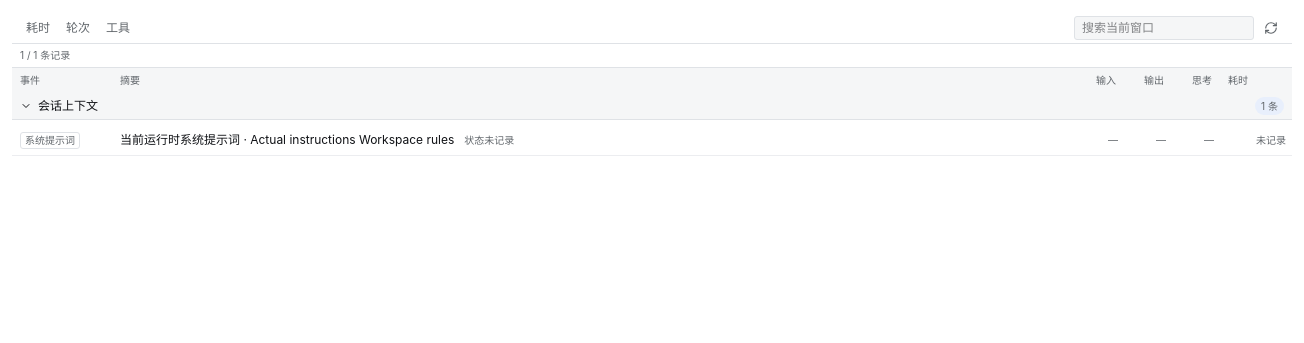
Test: opens actual runtime prompt from the table even before the first message
This screenshot has width=1304, height=343.
Click the cell named "检查 当前运行时系统提示词" at (185, 140), box [112, 124, 1076, 156]
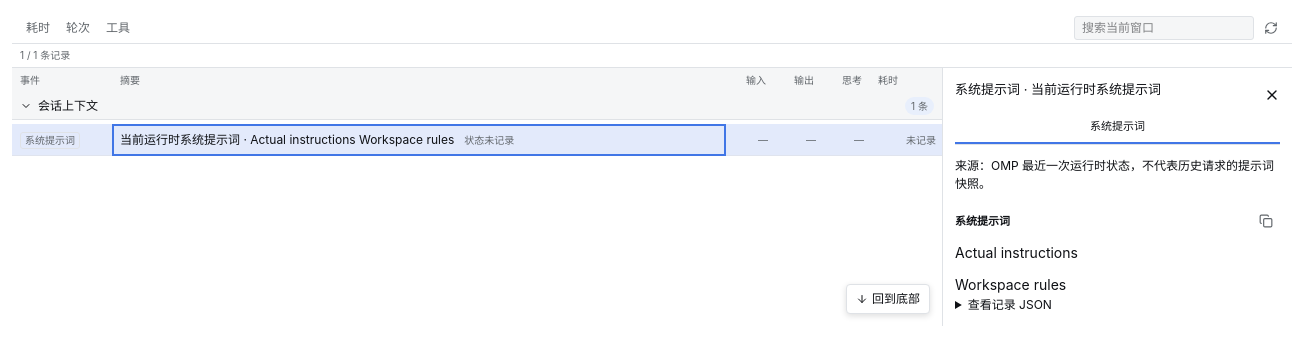
Expected: the panel shows "Actual instructions", [955, 244, 1078, 261]
Expected: the panel shows "Workspace rules", [955, 276, 1066, 292]
Expected: the panel shows "不代表历史请求", [955, 158, 1274, 191]
